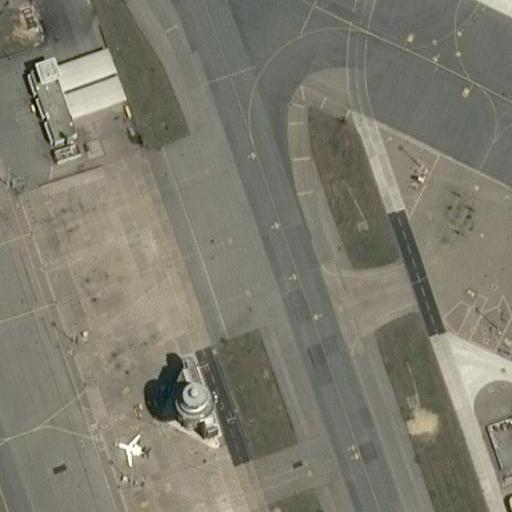Aircraft: (112, 432, 150, 467)
